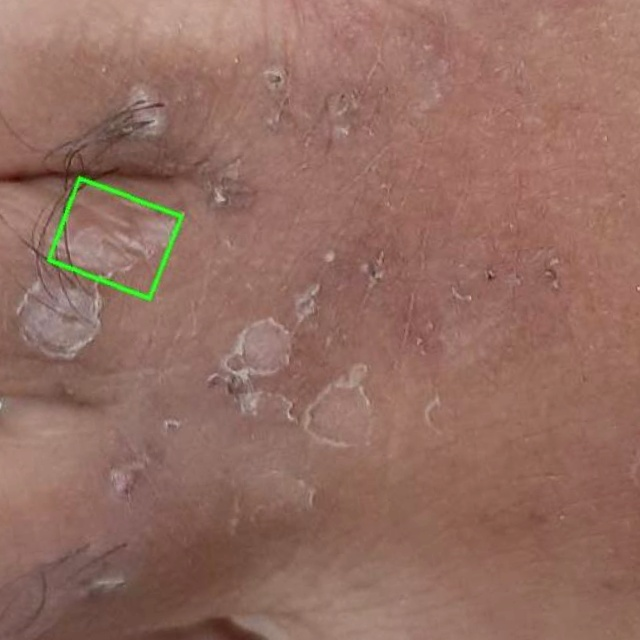Eczema: (48, 177, 182, 299)
